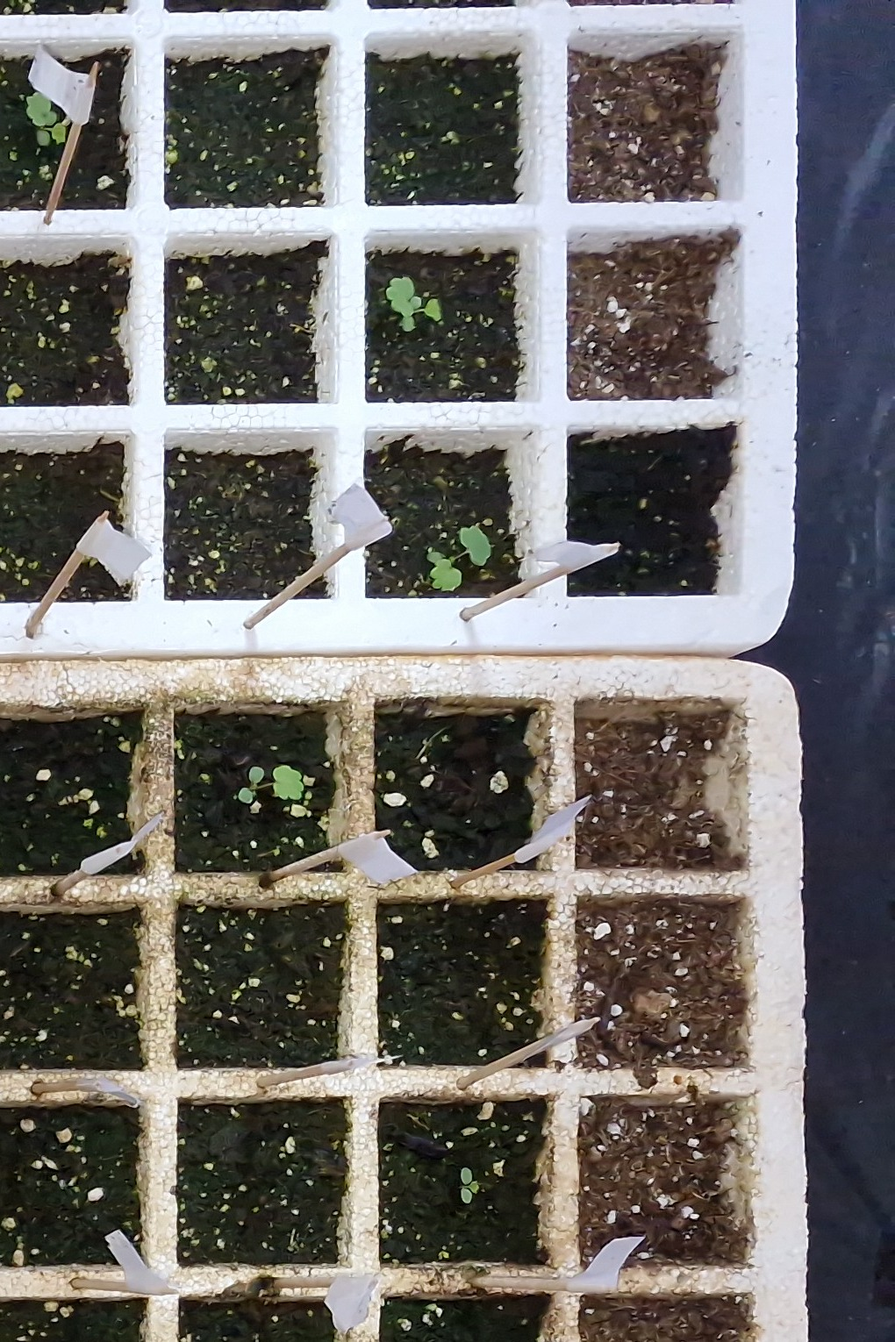Folha: (273, 766, 304, 800), (249, 767, 264, 784), (239, 787, 253, 803), (461, 1168, 472, 1184), (461, 1189, 472, 1203)
Germinacao: (239, 766, 304, 802), (461, 1168, 480, 1203)
